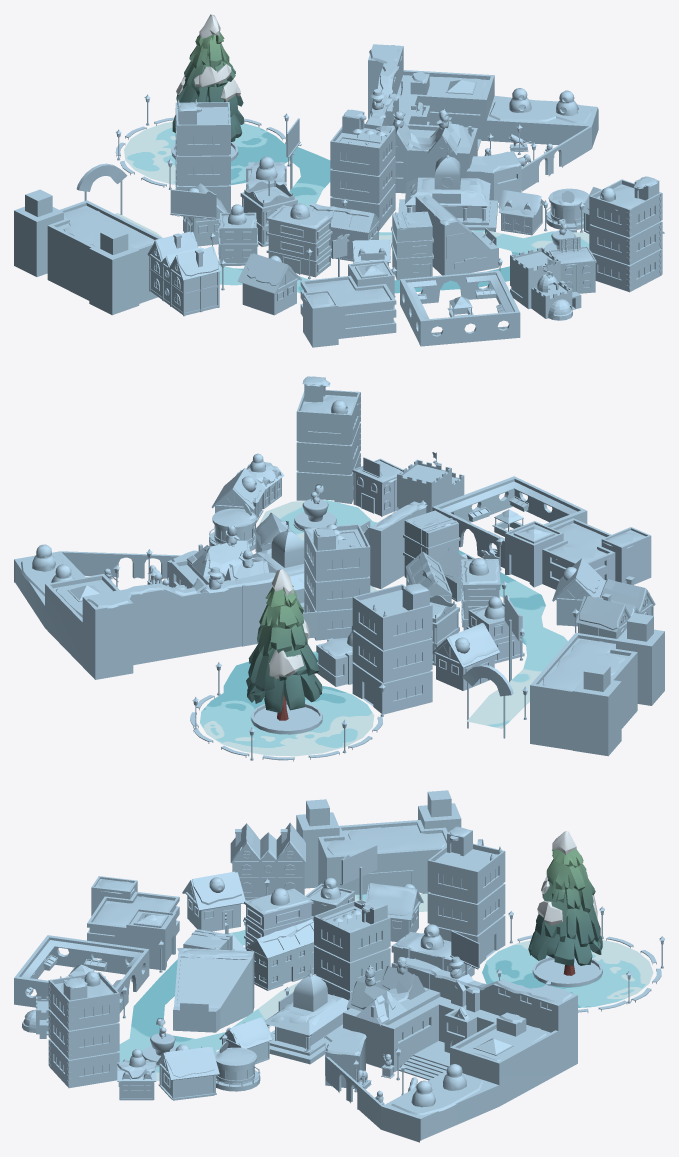
The model's file is NeighBorhood_PenguPlazaLocked.fbx.
The picture shows the model from 3 angles, top to bottom: view 1: azimuth 30°, elevation 25°; view 2: azimuth 150°, elevation 25°; view 3: azimuth 270°, elevation 25°; orthographic projection. The views are drawn at different scales.
Visible parts, largest first — view 1: NeighBorhood_PenguPlazaLocked_FeathersFloof, pCylinder3, Tree_168; view 2: NeighBorhood_PenguPlazaLocked_FeathersFloof, pCylinder3, Tree_168; view 3: NeighBorhood_PenguPlazaLocked_FeathersFloof, pCylinder3, Tree_168.
Boxes of the visible parts, x1=… form: NeighBorhood_PenguPlazaLocked_FeathersFloof: x1=14, y1=44, x2=664, y2=347; pCylinder3: x1=115, y1=122, x2=589, y2=293; Tree_168: x1=172, y1=14, x2=244, y2=141; NeighBorhood_PenguPlazaLocked_FeathersFloof: x1=14, y1=376, x2=664, y2=761; pCylinder3: x1=200, y1=500, x2=567, y2=756; Tree_168: x1=246, y1=569, x2=322, y2=720; NeighBorhood_PenguPlazaLocked_FeathersFloof: x1=14, y1=790, x2=664, y2=1142; pCylinder3: x1=118, y1=893, x2=653, y2=1080; Tree_168: x1=528, y1=831, x2=602, y2=975.
Bounding box in the file's own units: 6755 × 1857 × 6369.
